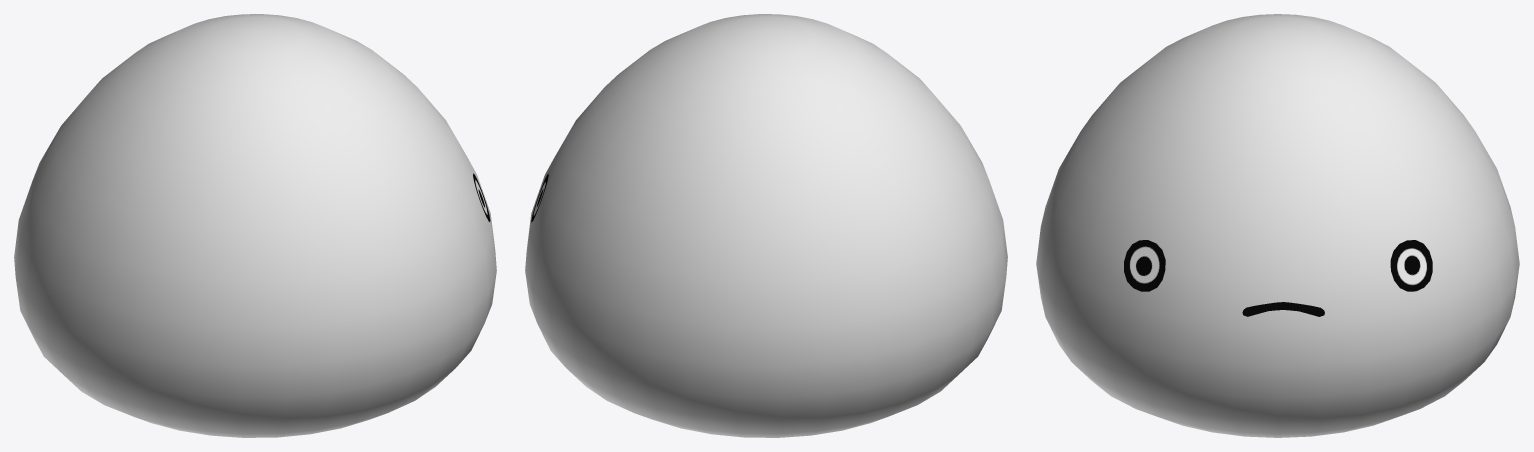
The model's file is SLIME ROCA 2 (1).fbx.
3 renders of one model, left to right at view 1: azimuth 30°, elevation 25°; view 2: azimuth 150°, elevation 25°; view 3: azimuth 270°, elevation 25°, orthographic.
Visible parts, largest first — view 1: SKIN2; view 2: SKIN2; view 3: SKIN2, EYES, BOCA SAD CERRADA.
Boxes of the visible parts, x1=… form: SKIN2: x1=14, y1=14, x2=496, y2=437; SKIN2: x1=525, y1=14, x2=1007, y2=437; SKIN2: x1=1036, y1=14, x2=1519, y2=437; EYES: x1=1124, y1=240, x2=1432, y2=291; BOCA SAD CERRADA: x1=1242, y1=302, x2=1324, y2=316.
Size of the model in its own units: 83.47 by 67.51 by 83.47.
5 materials, 3 textured.
